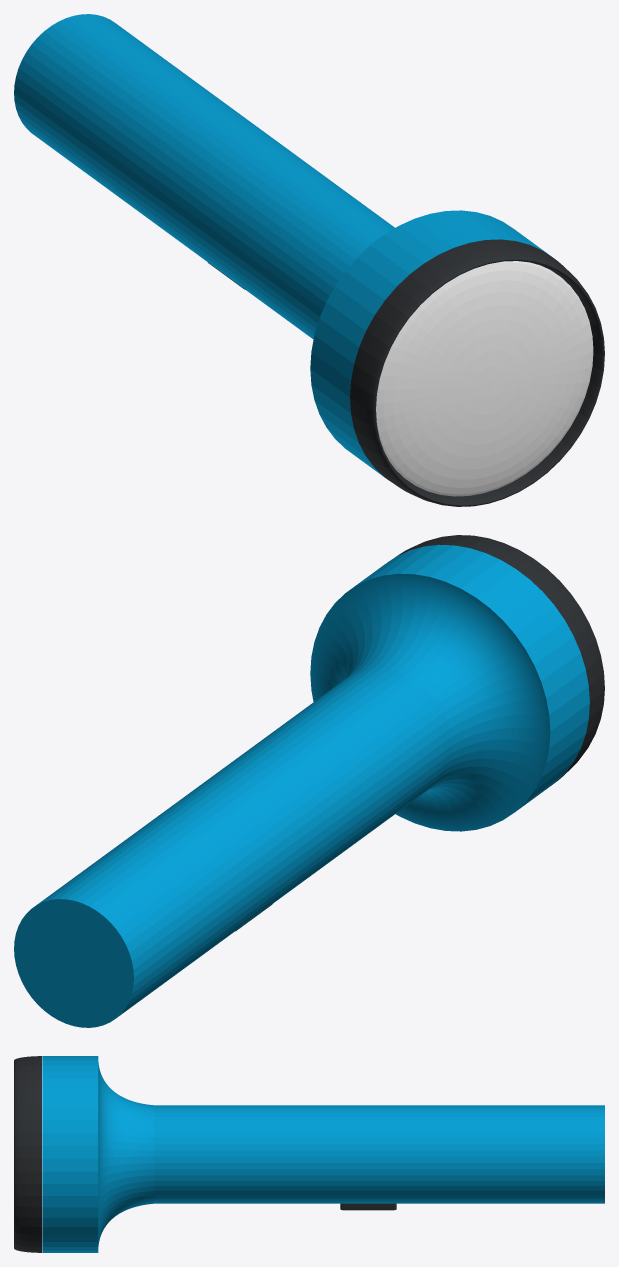
The model's file is tinker.obj.
3 renders of one model, top to bottom at view 1: azimuth 30°, elevation 25°; view 2: azimuth 150°, elevation 25°; view 3: azimuth 270°, elevation 25°, orthographic. The views are drawn at different scales.
Parts seen in each view (by area): view 1: obj_1, obj_3, obj_2; view 2: obj_1, obj_2; view 3: obj_1, obj_2, obj_0.
Boxes of the visible parts, left/top/right/bottom form: obj_1: left=14, top=14, right=551, bottom=476; obj_3: left=376, top=261, right=593, bottom=496; obj_2: left=350, top=239, right=604, bottom=506; obj_1: left=14, top=544, right=589, bottom=1027; obj_2: left=397, top=535, right=604, bottom=781; obj_1: left=42, top=1056, right=604, bottom=1252; obj_2: left=14, top=1056, right=41, bottom=1252; obj_0: left=340, top=1203, right=396, bottom=1210.
Bounding box in the file's own units: 35 × 35 × 105.
